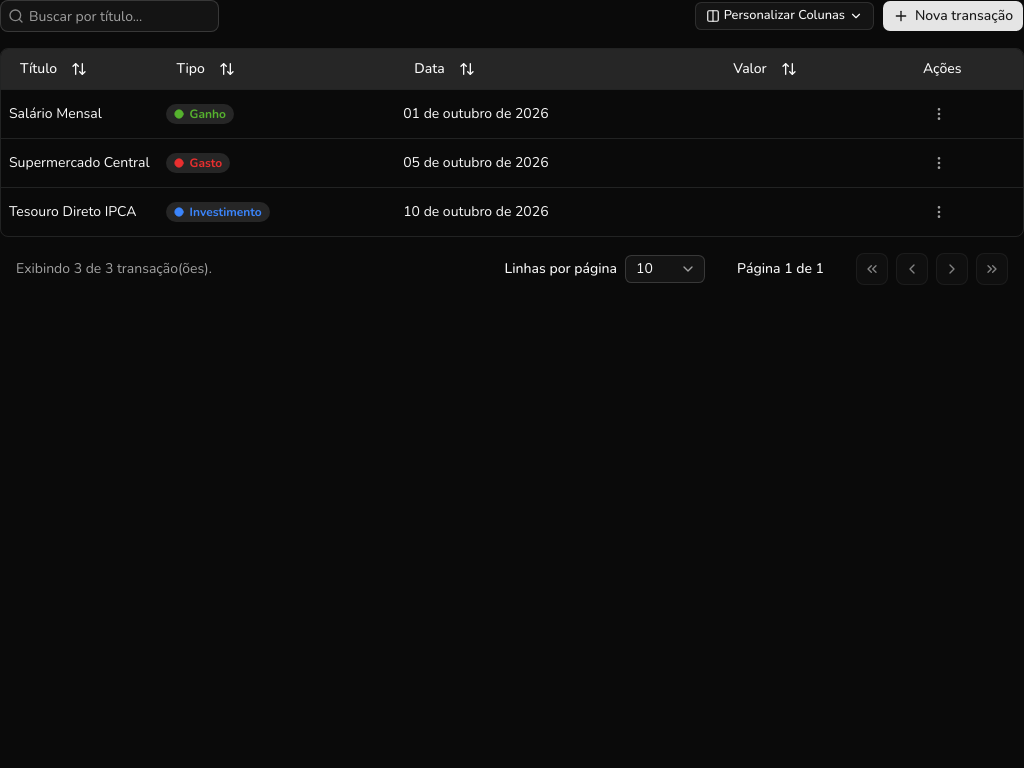
it: TransactionsTable Component › opens transaction detail drawer when clicking a row
Click the text "Salário Mensal" at (512, 114), box [1, 89, 1023, 138]
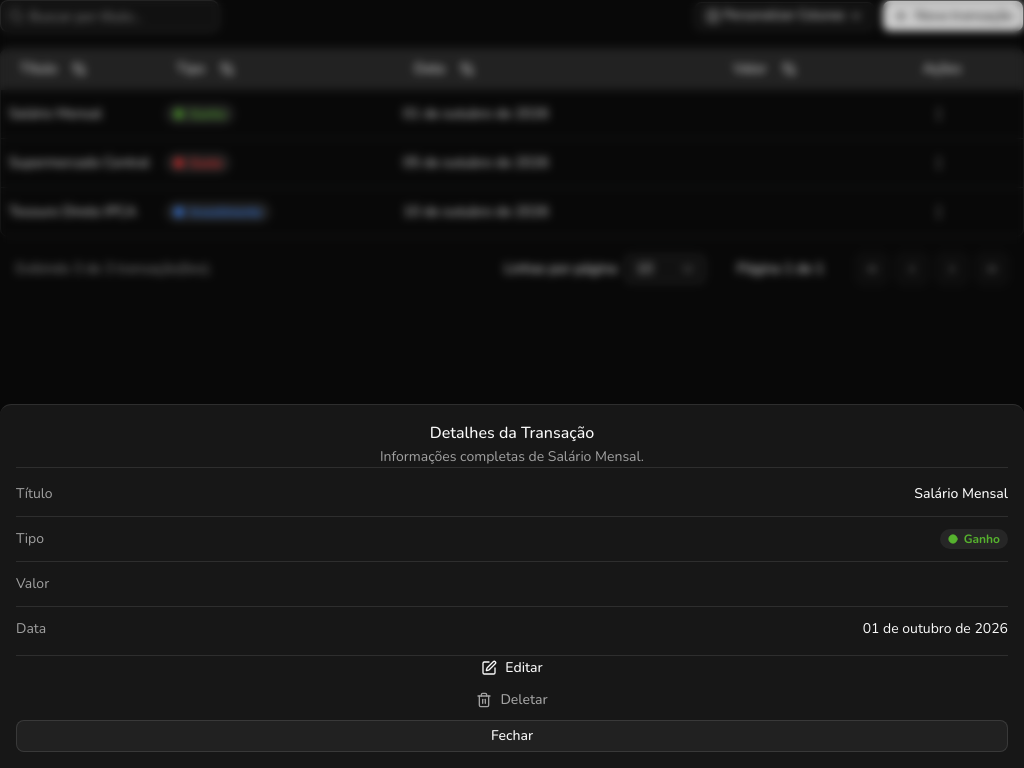
Expected: the dialog is shown, [0, 404, 1023, 767]
Expected: the heading "Detalhes da Transação" is shown, [430, 422, 594, 444]
